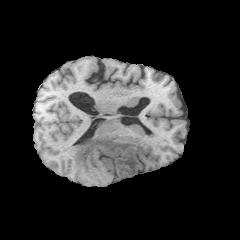glioma: (71, 134, 139, 175)
